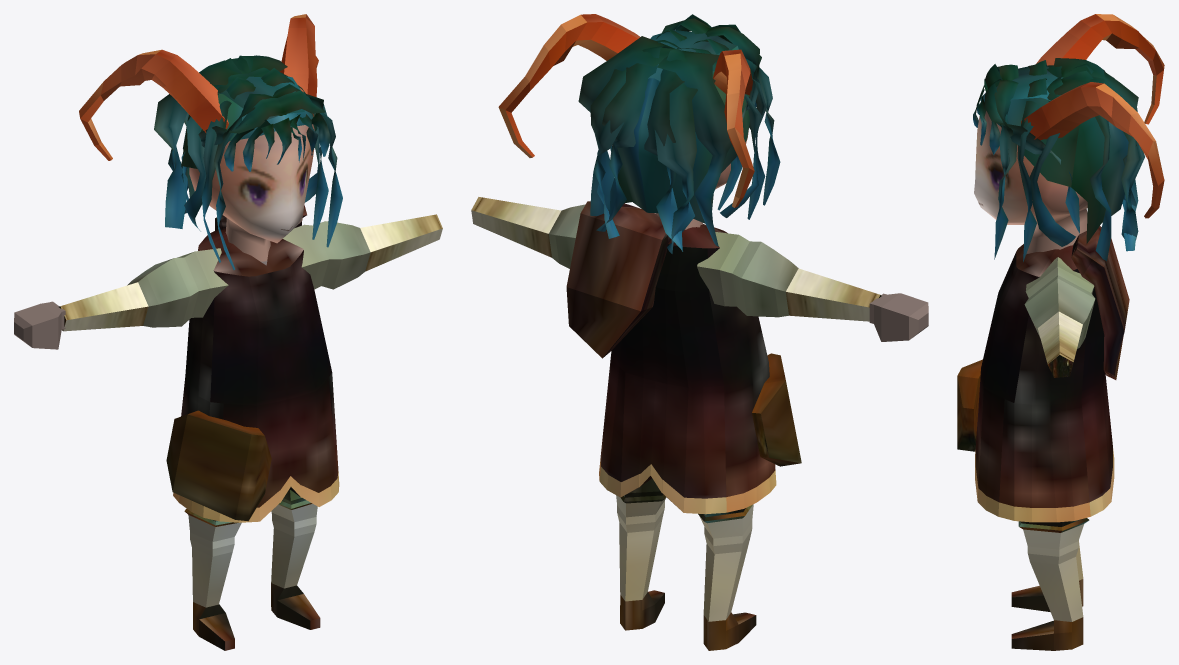
File: granley.glb
3 renders of one model, left to right at view 1: azimuth 30°, elevation 25°; view 2: azimuth 150°, elevation 25°; view 3: azimuth 270°, elevation 25°, orthographic. The views are drawn at different scales.
Visible parts, largest first — view 1: Body, HairDetail, Head, Bag, Cylinder, Bangs, Hands, HairBase; view 2: Body, HairDetail, Backpack, Cylinder, HairBase, Bag, Hands; view 3: Body, HairDetail, Cylinder, HairBase, Head, Backpack, Bag, Bangs.
Boxes of the visible parts, left/top/right/bottom form: Body: left=59, top=214, right=442, bottom=650; HairDetail: left=154, top=55, right=342, bottom=269; Head: left=189, top=124, right=314, bottom=265; Bag: left=166, top=410, right=271, bottom=521; Cylinder: left=79, top=14, right=318, bottom=160; Bangs: left=224, top=113, right=329, bottom=171; Hands: left=14, top=301, right=65, bottom=349; HairBase: left=181, top=76, right=317, bottom=207; Body: left=471, top=197, right=881, bottom=650; HairDetail: left=578, top=14, right=780, bottom=253; Backpack: left=566, top=201, right=671, bottom=358; Cylinder: left=498, top=14, right=754, bottom=207; HairBase: left=617, top=30, right=749, bottom=223; Bag: left=752, top=353, right=801, bottom=466; Hands: left=869, top=293, right=928, bottom=341; Body: left=975, top=244, right=1114, bottom=650; HairDetail: left=985, top=58, right=1144, bottom=261; Cylinder: left=1021, top=14, right=1164, bottom=218; HairBase: left=980, top=65, right=1128, bottom=243; Head: left=974, top=111, right=1087, bottom=254; Backpack: left=1071, top=226, right=1129, bottom=379; Bag: left=957, top=359, right=982, bottom=451; Bangs: left=973, top=79, right=1009, bottom=176.
Bounding box in the file's own units: 1.59 × 2.08 × 0.6808.
Materials: 3 (2 with a texture image).
